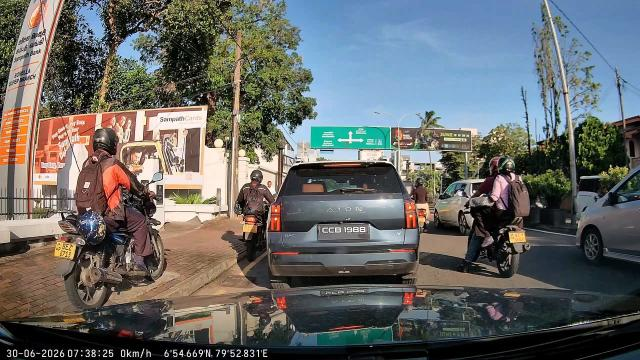illegal overtaking: (65, 124, 179, 301)
number plate: (47, 238, 81, 261)
